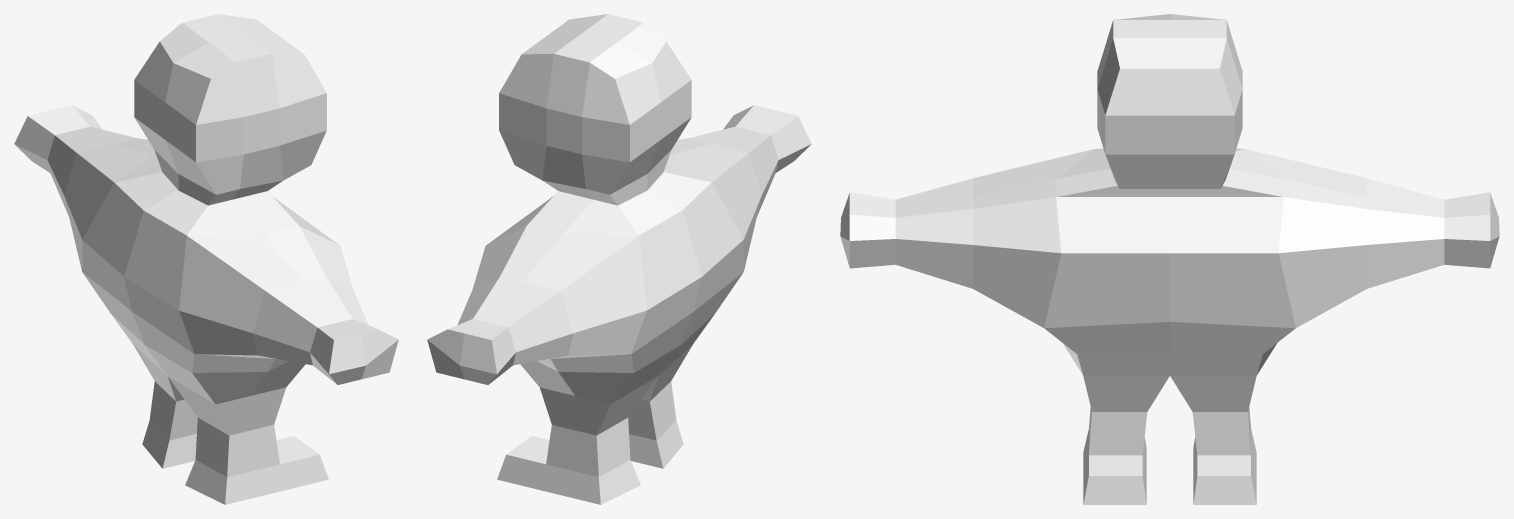
File: ork.fbx
The picture shows the model from 3 angles, left to right: view 1: azimuth 30°, elevation 25°; view 2: azimuth 150°, elevation 25°; view 3: azimuth 270°, elevation 25°; orthographic projection. The views are drawn at different scales.
Parts seen in each view (by area): view 1: Cube; view 2: Cube; view 3: Cube.
Boxes of the visible parts, x1,y1,x2,y2 form: Cube: (14,14,398,504); Cube: (427,14,811,504); Cube: (840,14,1499,504).
Size of the model in its own units: 321 by 760 by 1020.
